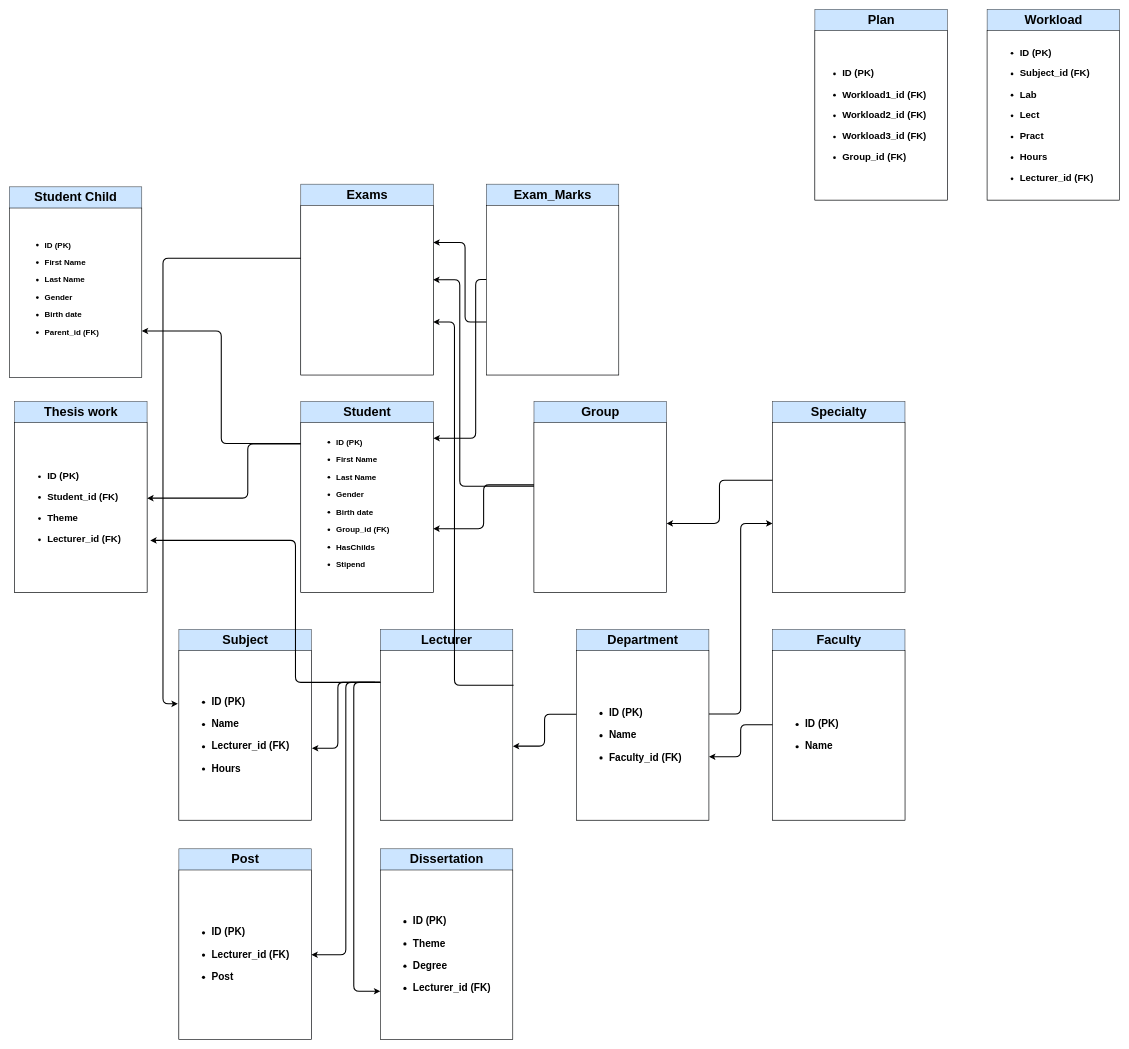
Some shapes in this 1129 by 1049 pixel diagram are drawn without their labels. The shapes that lost their labels are listed below. From the top down, each one's box as (x1, y1, x2, y2) in pixels, then its label:
(300, 205, 433, 375): ID (PK) Subject_id (FK) Group_id (FK) Date Lecturer_id (FK) Semestre
(486, 205, 619, 375): ID (PK) Student_id (FK) Mark Exam_id
(533, 422, 666, 592): ID (PK) Name Specialty_id (FK) Course
(772, 422, 905, 592): ID (PK) Name Department_id (FK)
(380, 650, 513, 820): ID (PK) First Name Last Name Department_id (FK) Post Degree Birth date Salary
